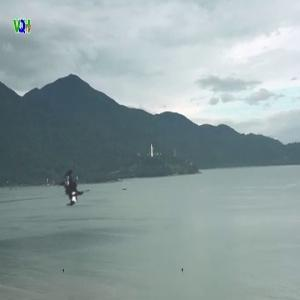drone: (13, 133, 135, 255)
